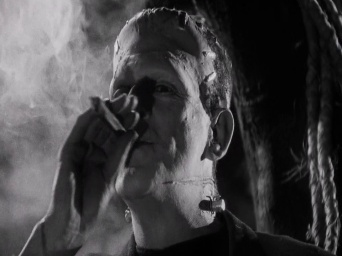smoke: (91, 94, 129, 140)
